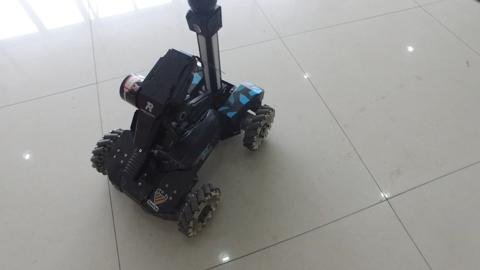chariot: (83, 22, 271, 234)
